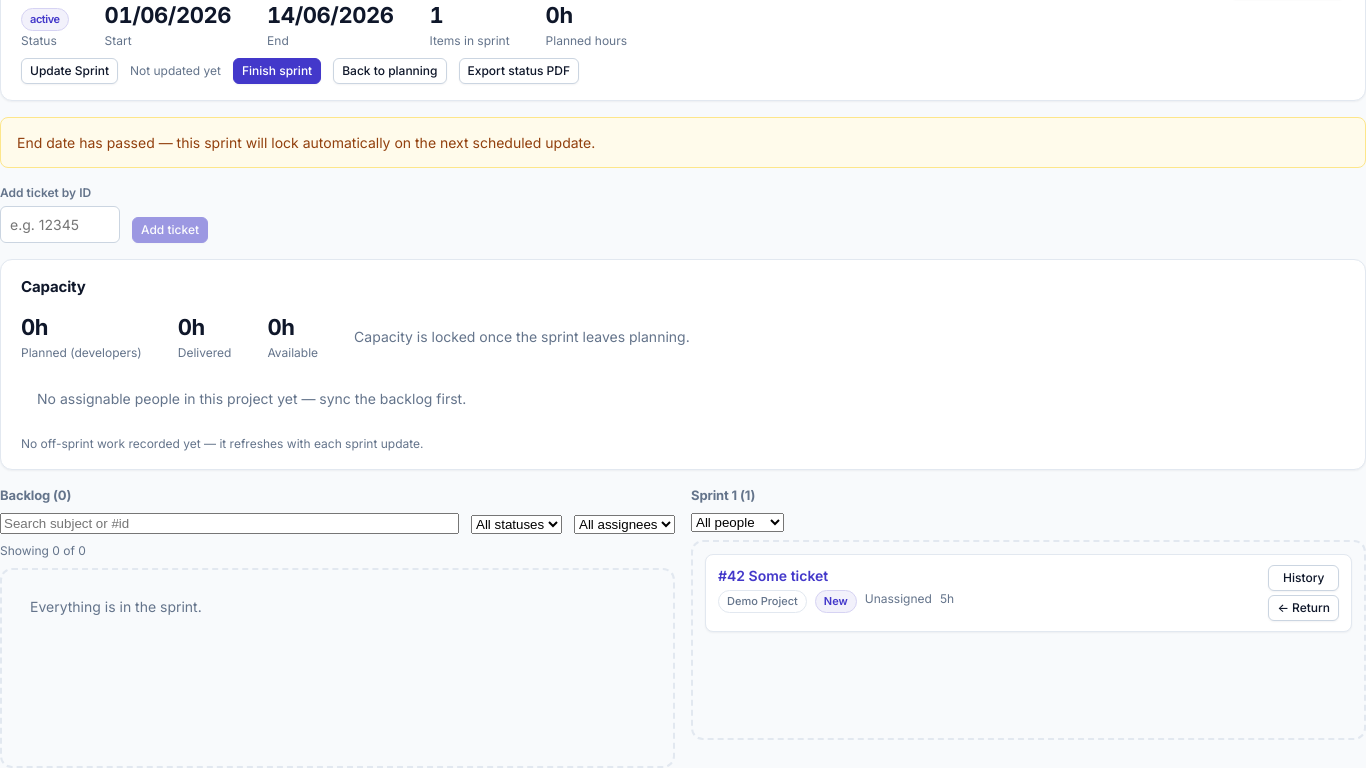
Test: SprintBoardScreen › opens the ticket changelog panel for an activated sprint's card and fetches via the right URL
(page scrolled)
Expected: the link "#42 Some ticket" is shown, x1=718 y1=567 x2=828 y2=584
Click the button with aria-label "View changelog for #42": (1304, 578) x1=1268 y1=565 x2=1339 y2=591
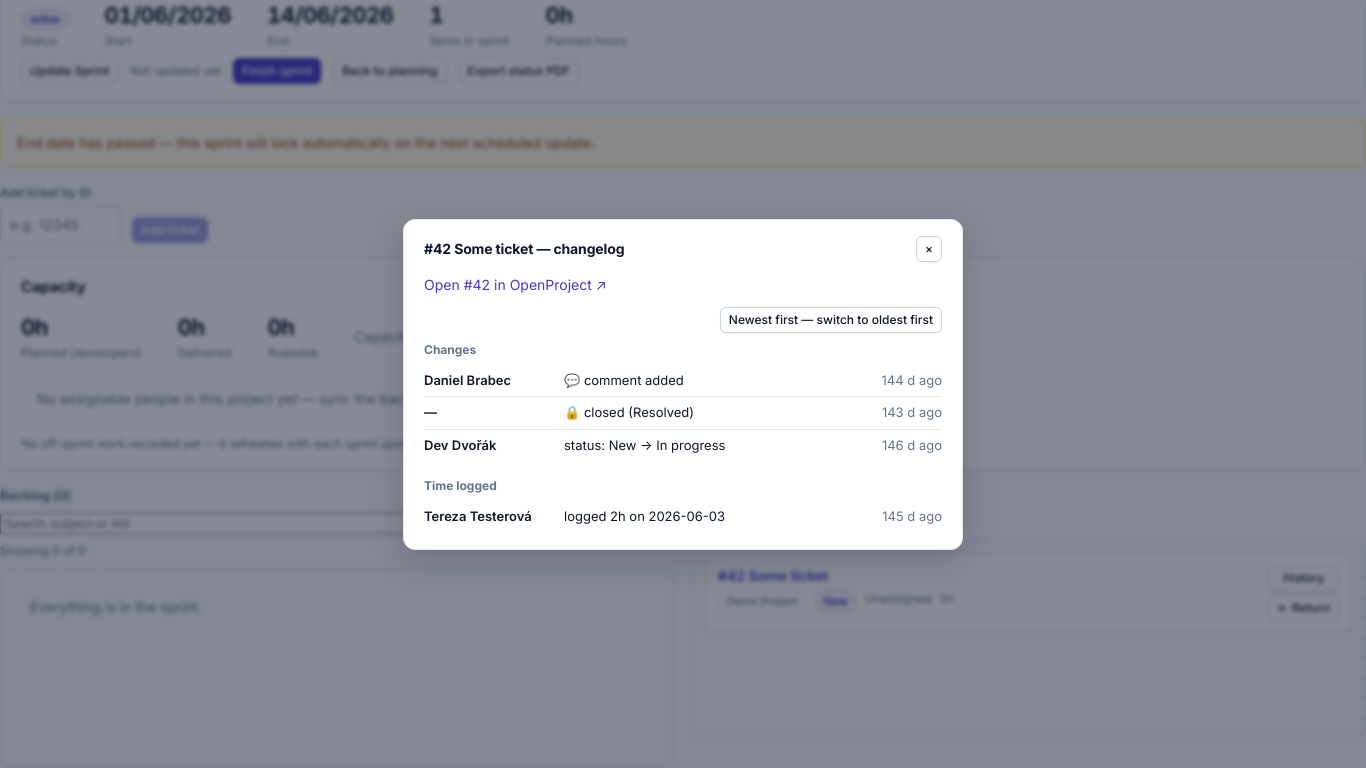
Result: the text "status: New → In progress" is shown at x1=564 y1=436 x2=725 y2=452
Result: the text "🔒 closed (Resolved)" is shown at x1=564 y1=404 x2=694 y2=420
Result: the text "logged 2h on 2026-06-03" is shown at x1=564 y1=508 x2=725 y2=524
Click the button named "Close": (929, 248) x1=916 y1=236 x2=942 y2=262
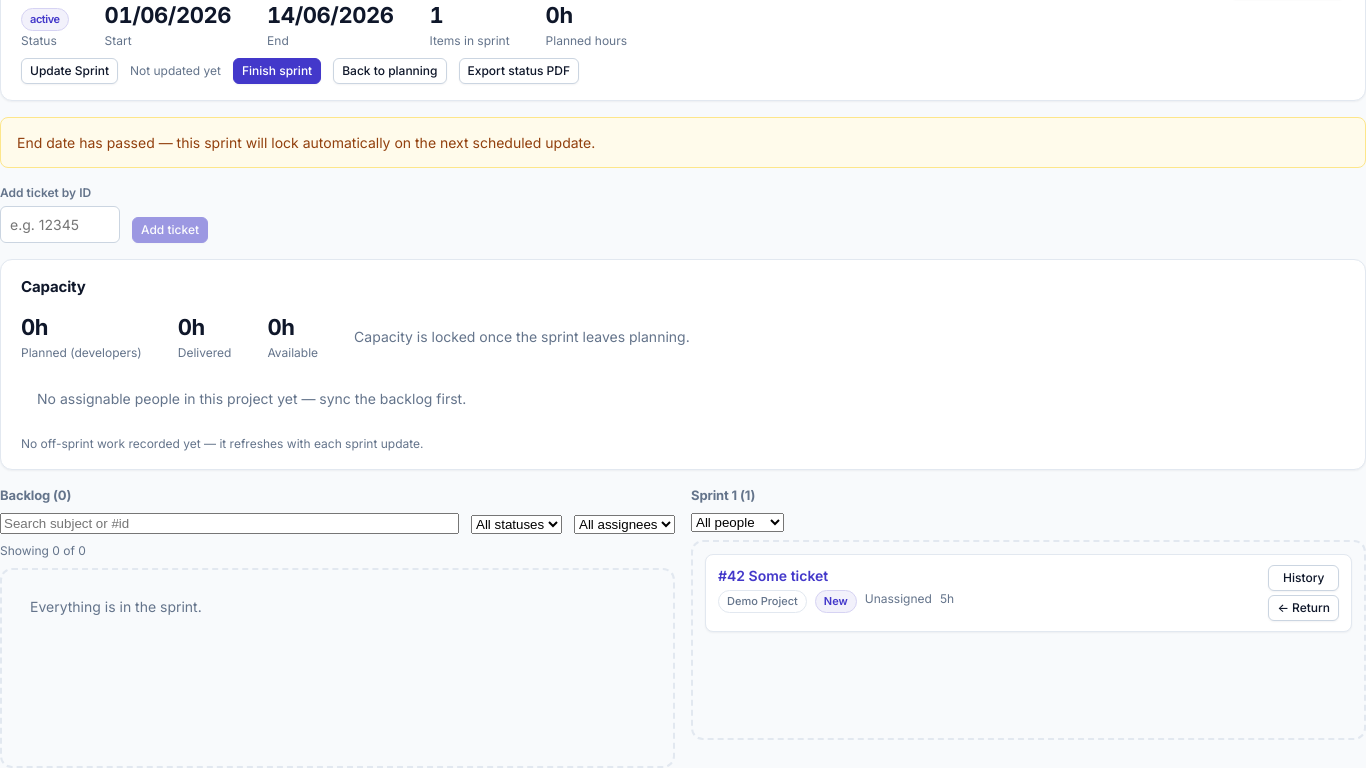
Result: the text "status: New → In progress" is gone
